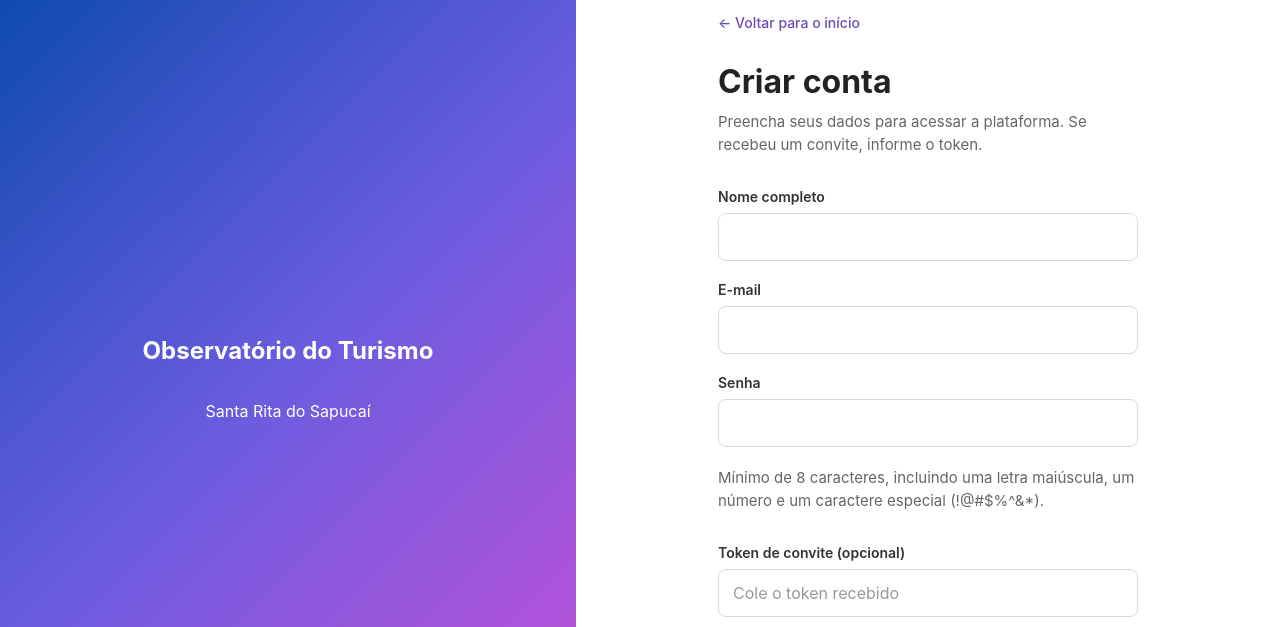
Register - Cadastro com convite › exibe erro quando o convite é inválido
Type "Usuário Teste" into the field labelled "Nome completo". click: (928, 237)
box: [718, 213, 1138, 261]
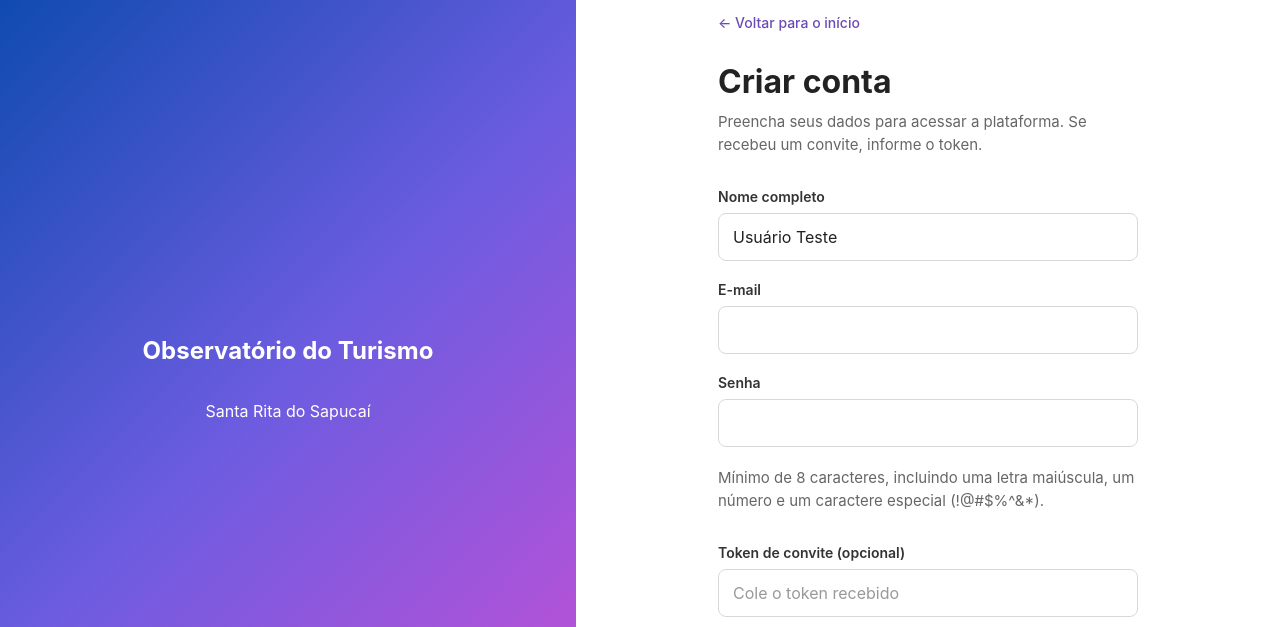
Type "teste@example.com" into the field labelled "E-mail". click: (928, 330)
box: [718, 306, 1138, 354]
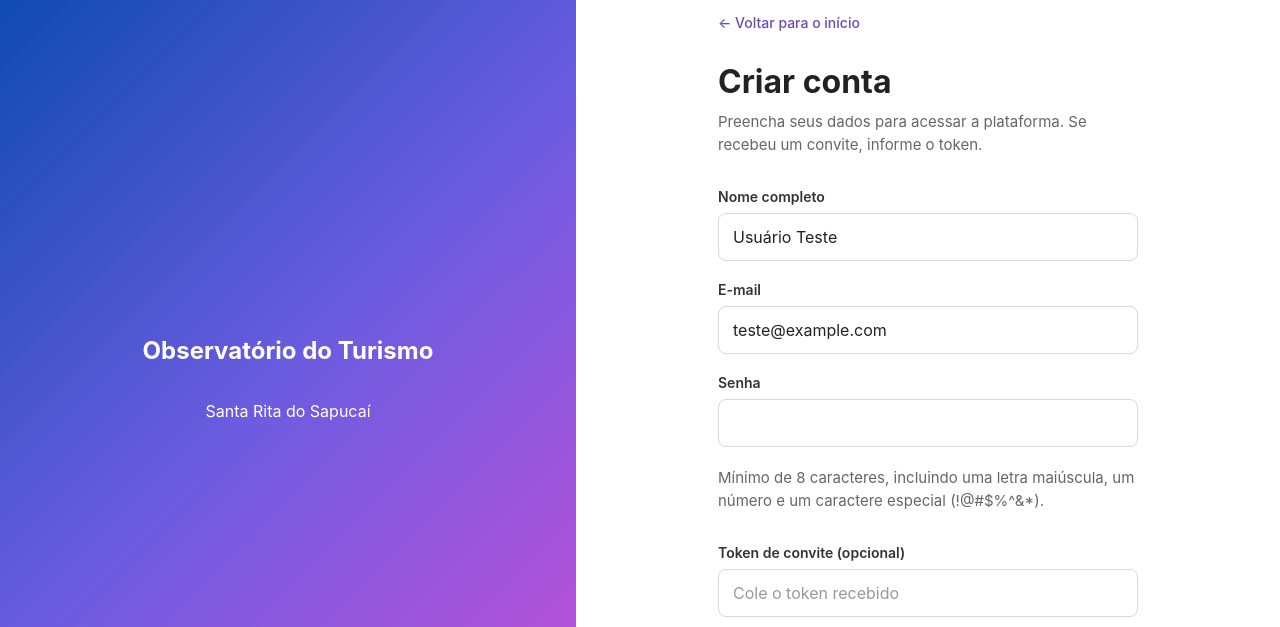
Type "Senha123!" into the password field labelled "Senha". click: (928, 423)
box: [718, 399, 1138, 447]
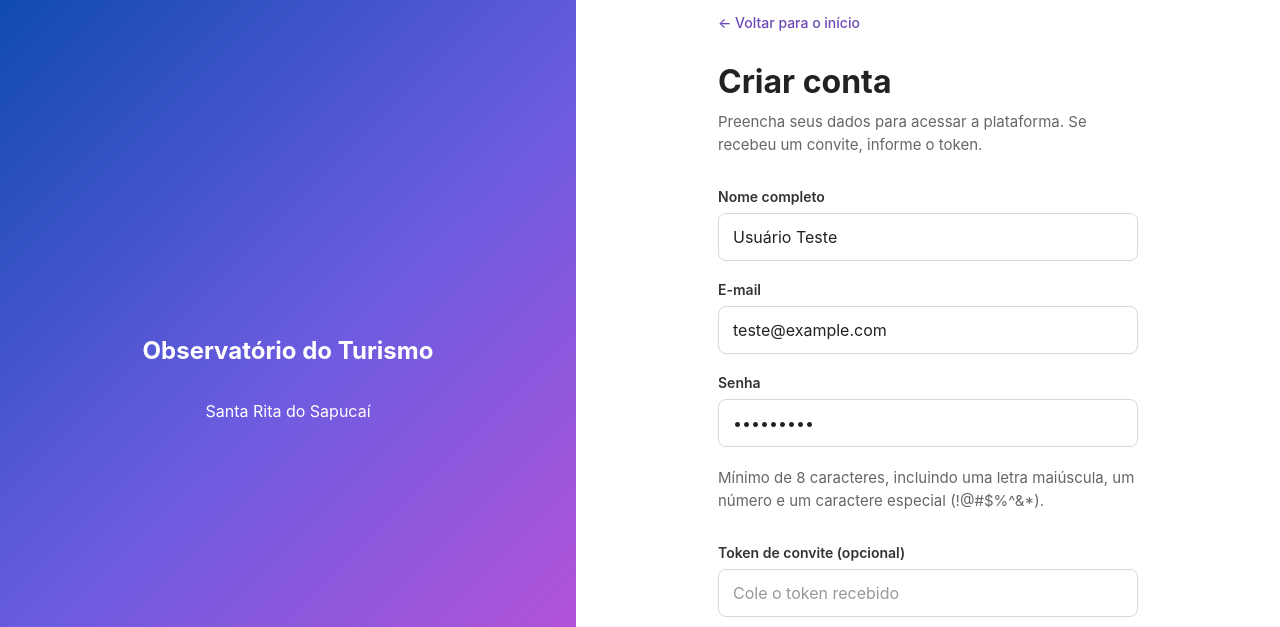
Type "convite-invalido" into the field labelled "Token de convite (opcional)". click: (928, 593)
box: [718, 569, 1138, 617]
(page scrolled)
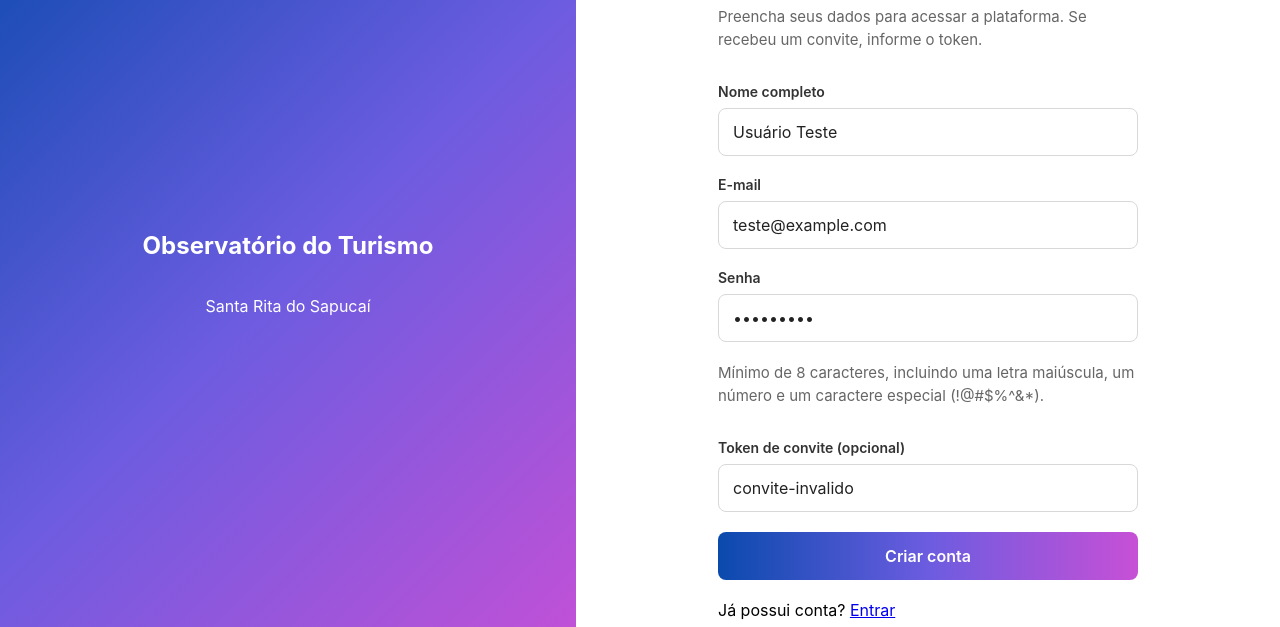
Click the button "Criar conta". click: click(928, 556)
box: [718, 532, 1138, 580]
(page scrolled)
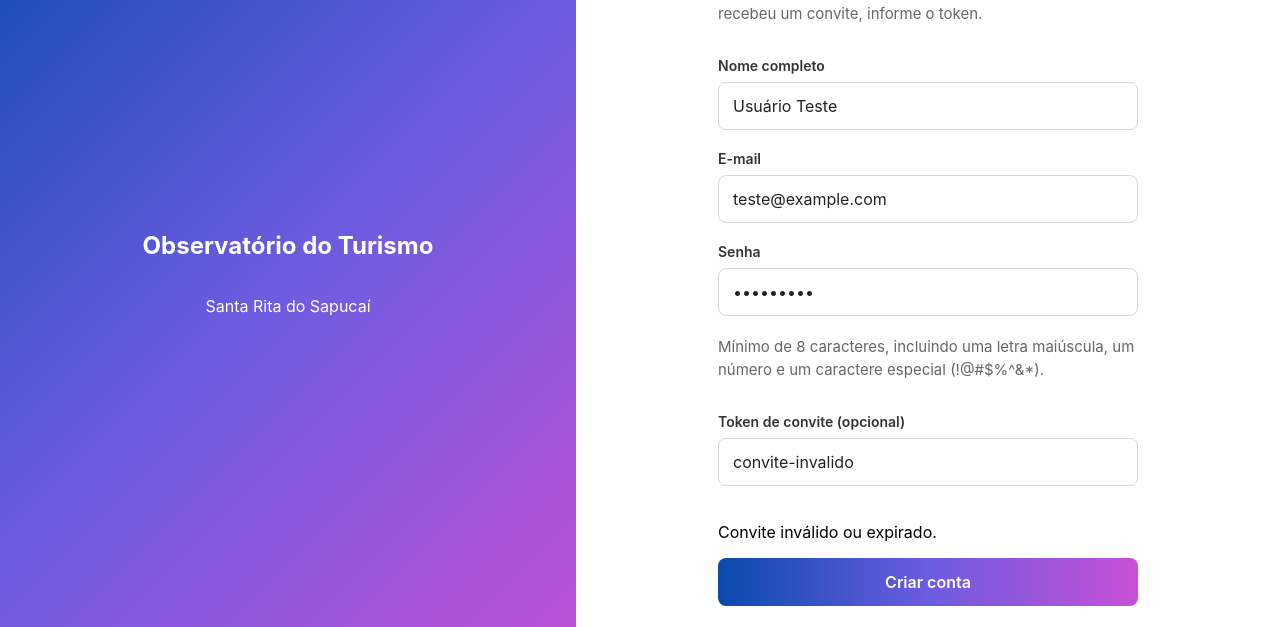
Now the message reads "Convite inválido ou expirado.", box [718, 522, 937, 542]
